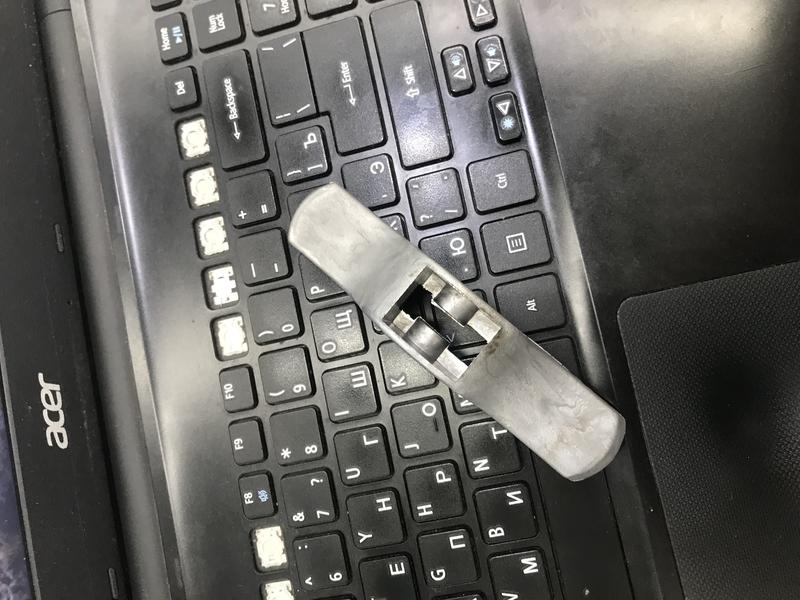zapchast: (272, 166, 639, 495)
